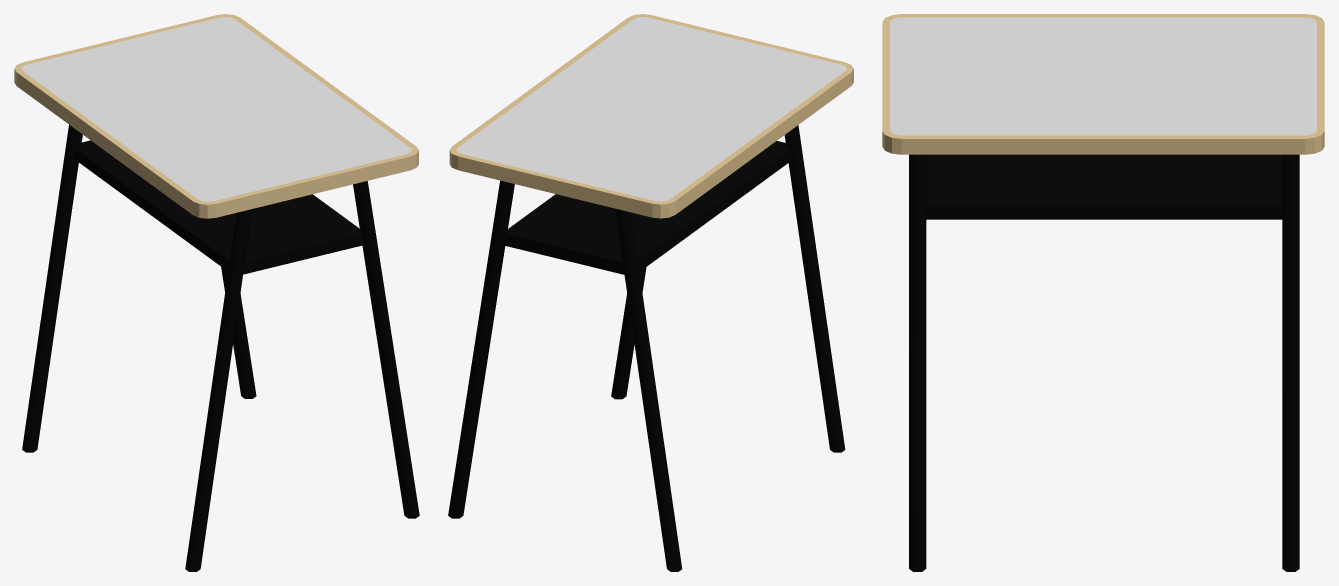
The model's file is Table.fbx.
3 renders of one model, left to right at view 1: azimuth 30°, elevation 25°; view 2: azimuth 150°, elevation 25°; view 3: azimuth 270°, elevation 25°, orthographic. The views are drawn at different scales.
Visible parts, largest first — view 1: Table; view 2: Table; view 3: Table.
Part boxes in pixels (x1,y1,x2,y2): Table: [14, 14, 419, 571]; Table: [448, 14, 853, 571]; Table: [882, 14, 1324, 571].
Bounding box in the file's own units: 0.4846 × 0.7484 × 0.7.
